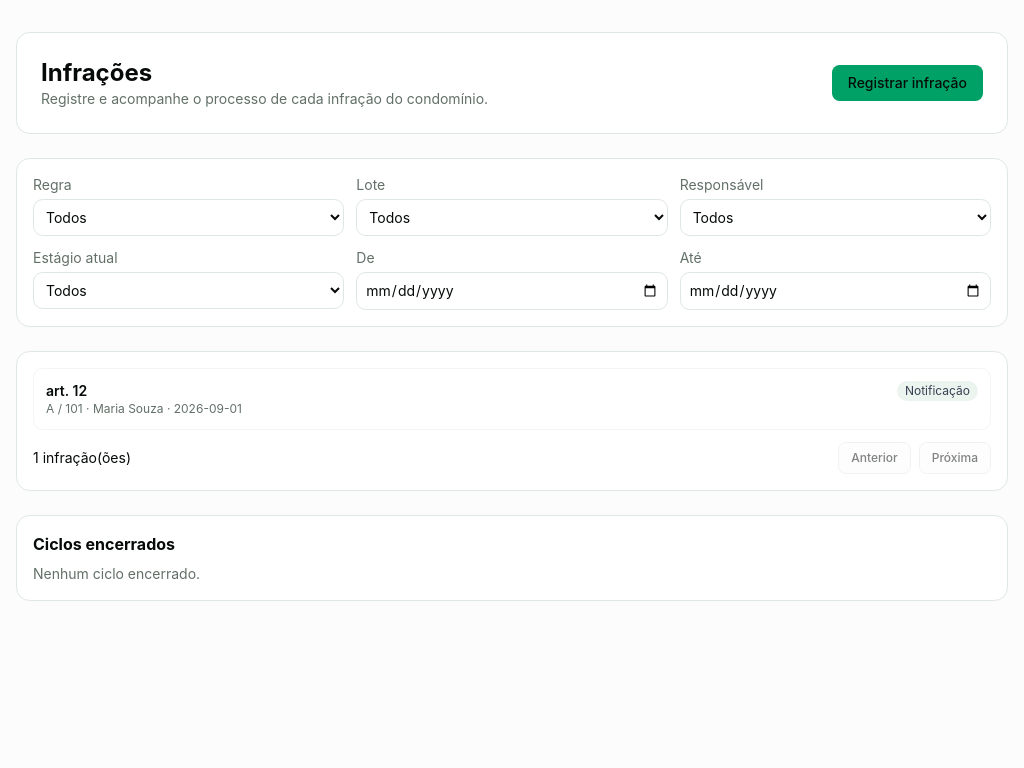
Test case: InfractionsPage detail › opens the create modal and submits through it
What coordinates should you click on to do the following:
click the button with test id "open-new-infraction"
I would click on:
 (907, 83)
Its box is x1=832 y1=65 x2=983 y2=101.
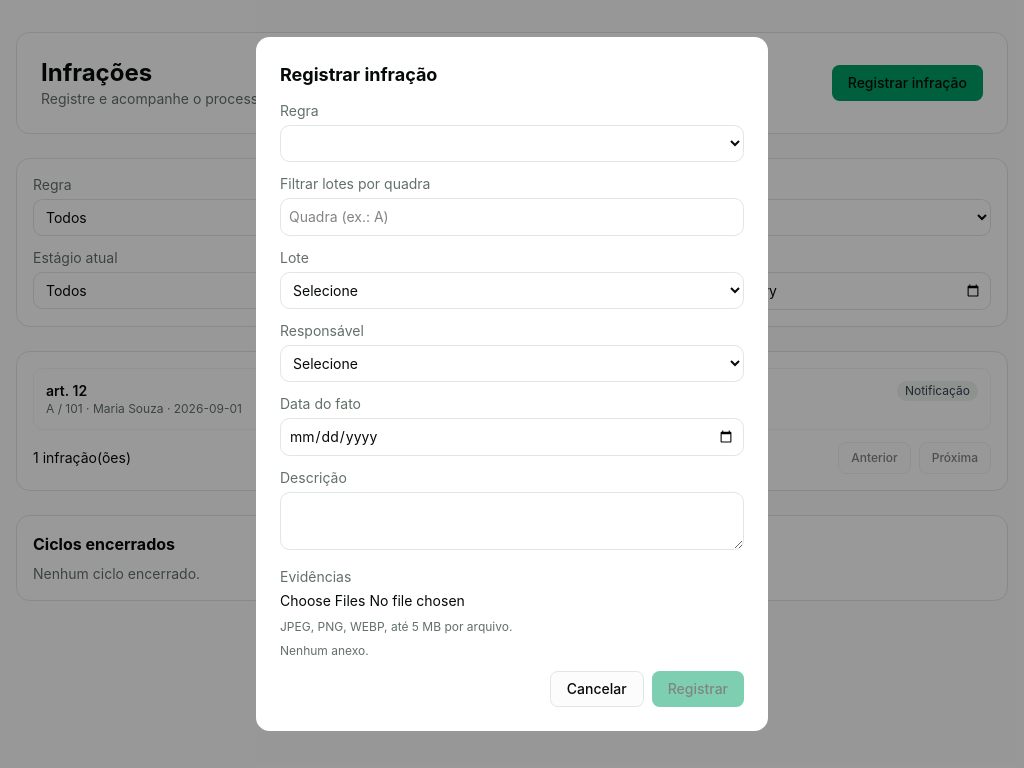
expect the element with test id "new-infraction-modal" is shown: met
